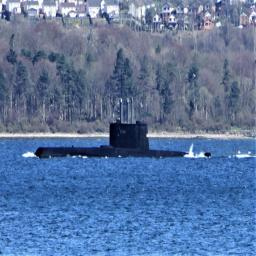submarine: (38, 96, 214, 159)
